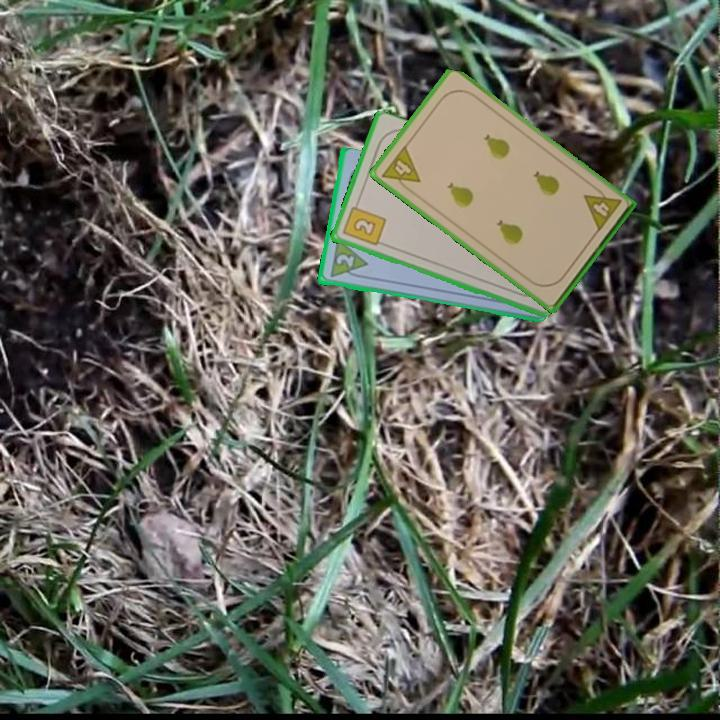2b: (339, 198, 388, 249)
2p: (332, 251, 357, 270)
4p: (378, 142, 423, 196), (580, 182, 624, 235)
